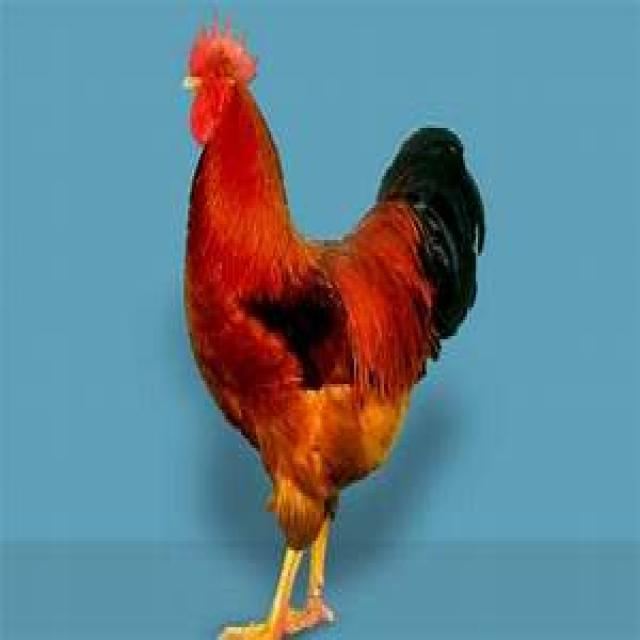hen: (185, 26, 484, 638)
